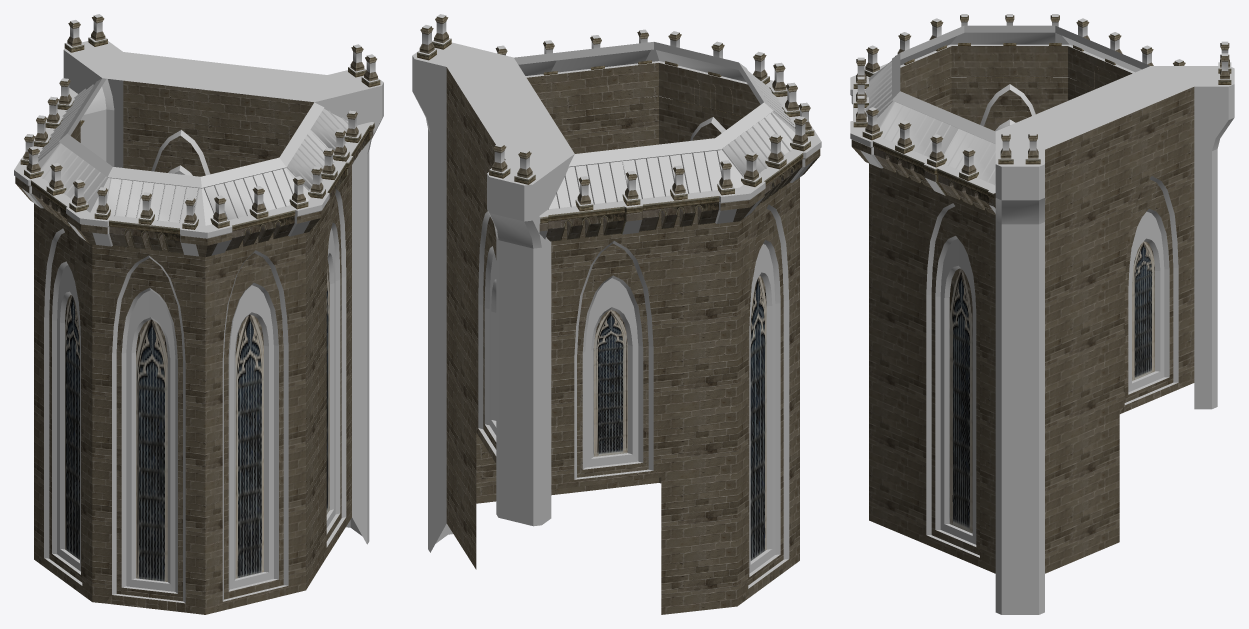
The model's file is SM_TowerMidSection.FBX.
The picture shows the model from 3 angles, left to right: view 1: azimuth 30°, elevation 25°; view 2: azimuth 150°, elevation 25°; view 3: azimuth 270°, elevation 25°; orthographic projection. The views are drawn at different scales.
Visible parts, largest first — view 1: SM_TowerMidSection; view 2: SM_TowerMidSection; view 3: SM_TowerMidSection.
Boxes of the visible parts, x1,y1,x2,y2 form: SM_TowerMidSection: [14, 14, 383, 614]; SM_TowerMidSection: [412, 14, 821, 614]; SM_TowerMidSection: [850, 14, 1234, 614].
Size of what is drawn, in the model's own units: 3246 by 3246 by 4500.
